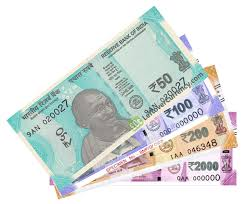fifty: (43, 58, 178, 154)
